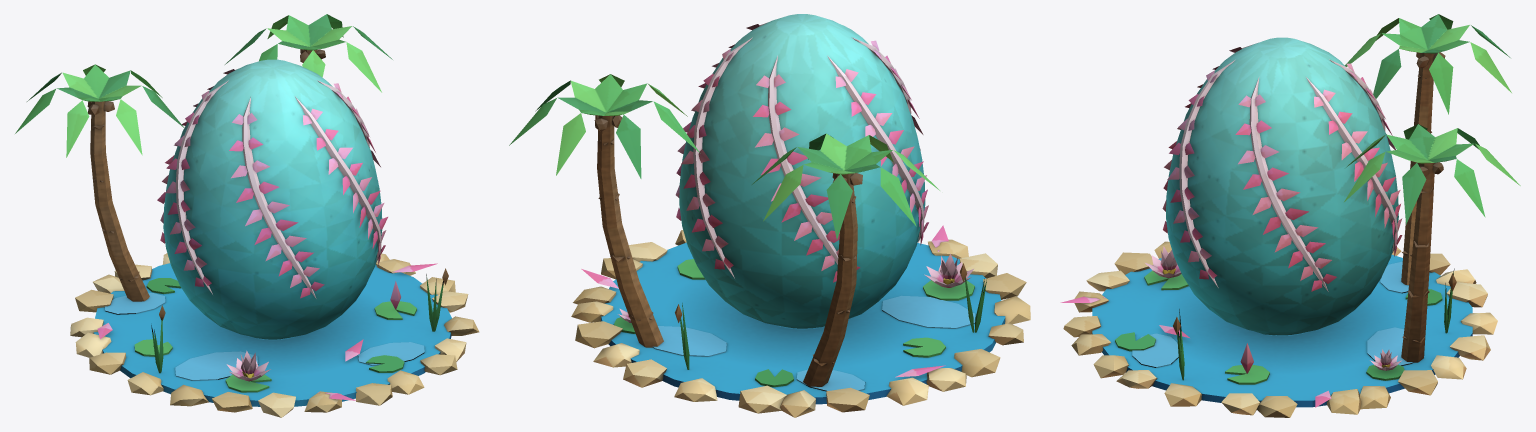
File: egg_oasis.fbx
The picture shows the model from 3 angles, left to right: view 1: azimuth 30°, elevation 25°; view 2: azimuth 150°, elevation 25°; view 3: azimuth 270°, elevation 25°; orthographic projection. The views are drawn at different scales.
Parts seen in each view (by area): view 1: egg_oasis_body; view 2: egg_oasis_body; view 3: egg_oasis_body.
Boxes of the visible parts, box(x1,y1,x2,y2) form: egg_oasis_body: box(15, 14, 479, 417); egg_oasis_body: box(509, 14, 1030, 417); egg_oasis_body: box(1060, 14, 1520, 417).
Bounding box in the file's own units: 427 × 304 × 444.
Materials: 1 (1 with a texture image).
